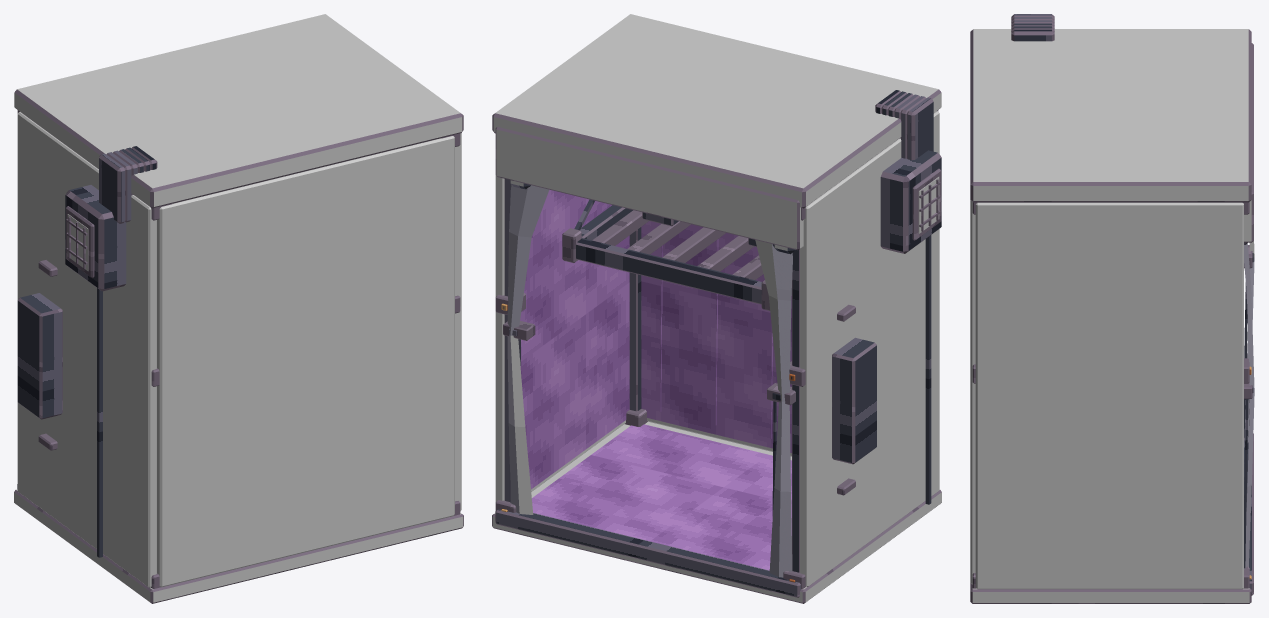
The model's file is tent_4_body.obj.
3 views of the same model, side by side, from view 1: azimuth 30°, elevation 25°; view 2: azimuth 150°, elevation 25°; view 3: azimuth 270°, elevation 25° (orthographic).
Parts seen in each view (by area): view 1: model; view 2: model; view 3: model.
Part boxes in pixels (<box>): model: <box>14,14,463,603</box>; model: <box>492,14,941,603</box>; model: <box>970,14,1254,603</box>.
Size of the model in its own units: 2.34 by 2.74 by 1.64.
